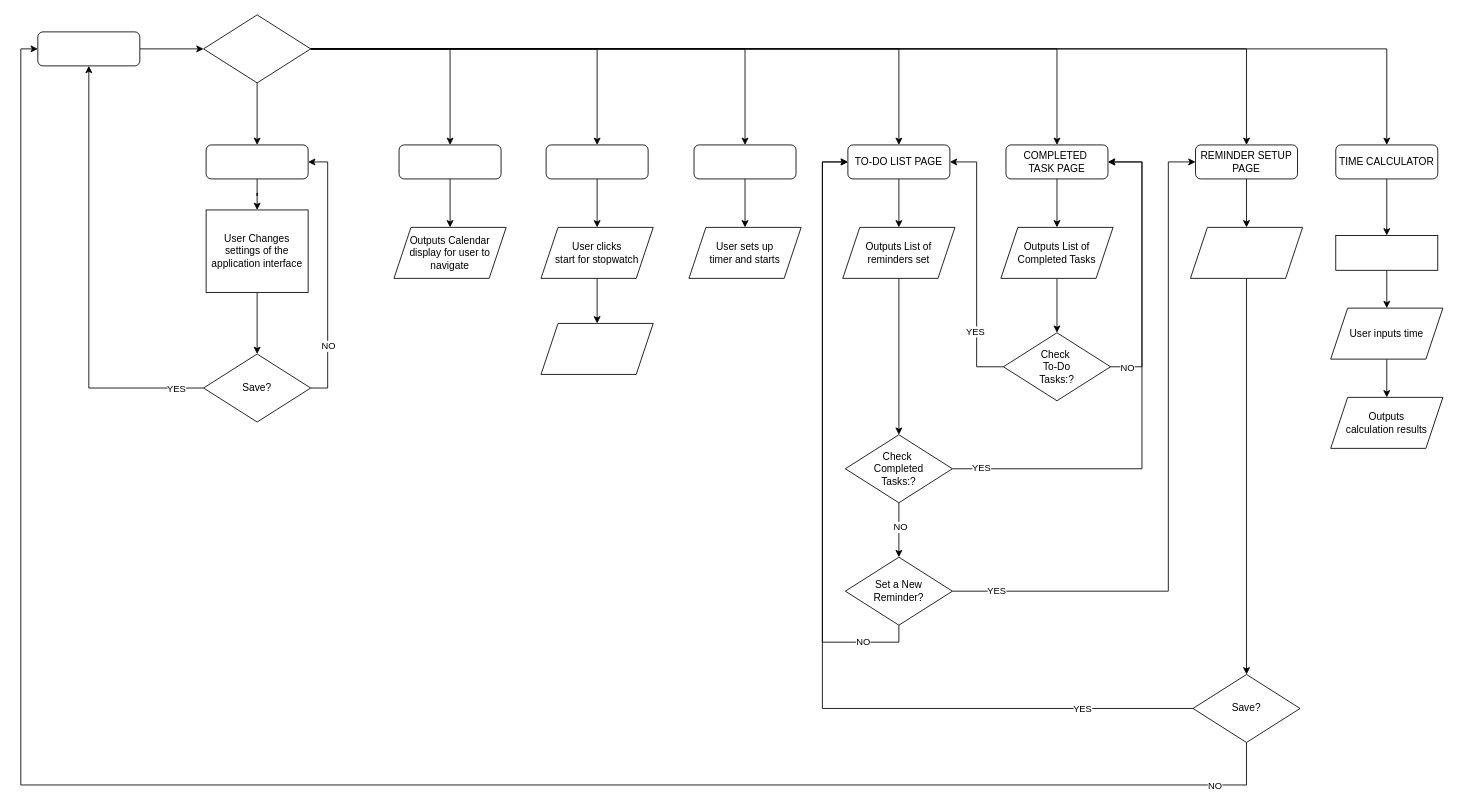
The diagram is 1458 pixels wide and 807 high, and some of its shapes have lost their labels. The box of each missing label's shape, as (x1, y1, x2, y2) in pixels:
CALENDAR PAGE: (398, 144, 501, 179)
MAIN HOME PAGE: (37, 31, 140, 66)
Menu: (203, 14, 311, 83)
Outputs Stopwatch time: (540, 323, 653, 374)
SETTINGS PAGE: (205, 144, 308, 179)
STOPWATCH PAGE: (545, 144, 648, 179)
TIMER PAGE: (693, 144, 796, 179)
User inputs reminder details: (1190, 227, 1303, 278)
User selects type of calculation: (1335, 235, 1438, 270)
